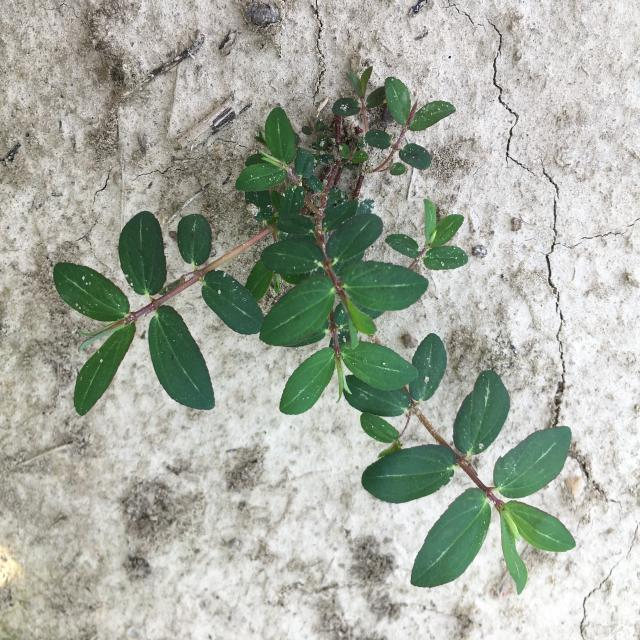SpottedSpurge: (52, 66, 578, 596)
